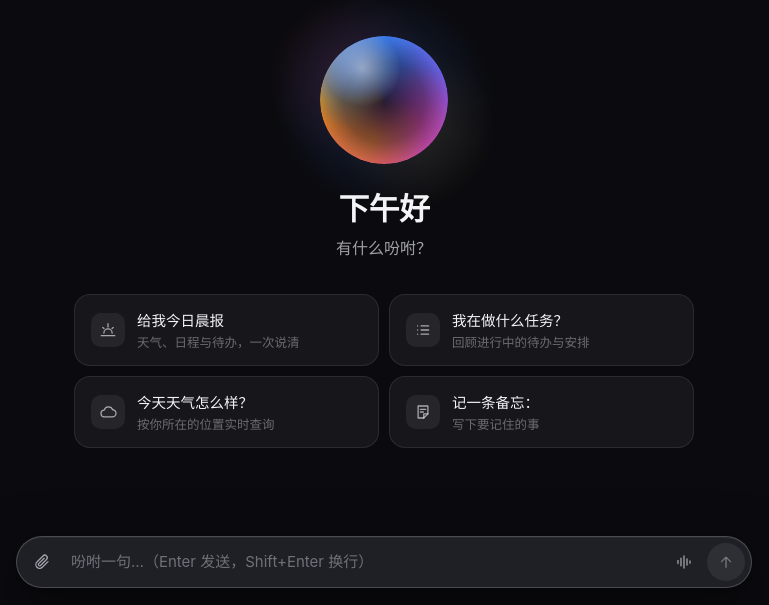
对话体验 › 网络中断时用人话说明（不再显示「链路中断：Failed to fetch」）并可重试
This screenshot has width=769, height=605.
Type "在吗" into the text box with placeholder "吩咐一句…（Enter 发送，Shift+Enter 换行）" at (363, 562), box [65,543,661,581]
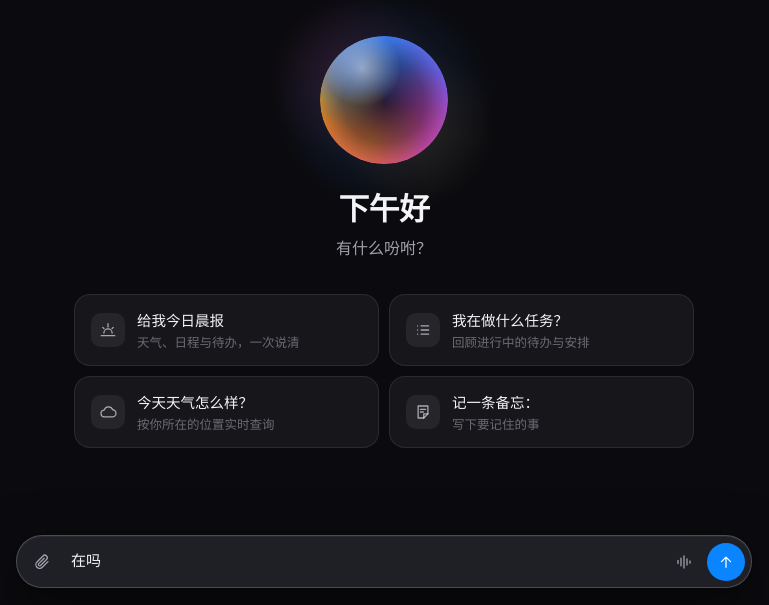
Press Enter in the text box with placeholder "吩咐一句…（Enter 发送，Shift+Enter 换行）", box [65,542,661,581]
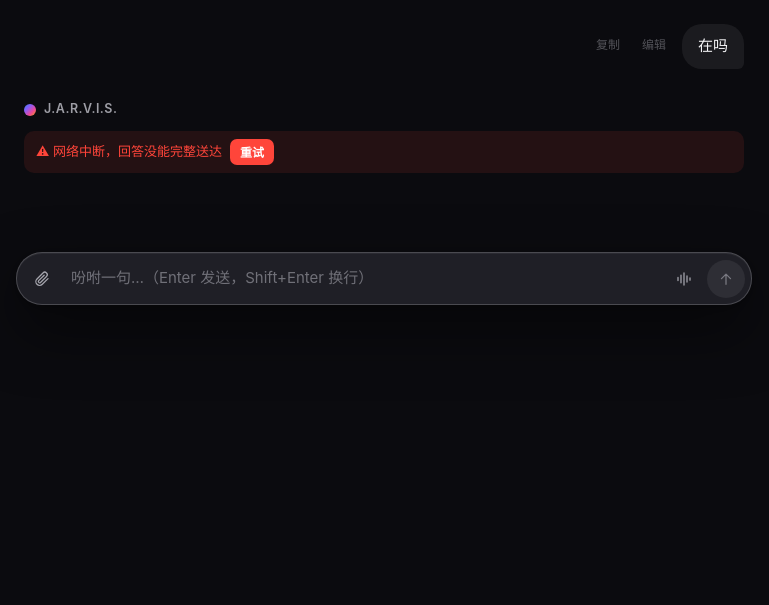
Expected: the message does not show "Failed to fetch", [24,131,744,173]
Now the message shows "网络中断", box [53,143,222,159]
Now the button "重试" is shown, box [230,139,274,165]
